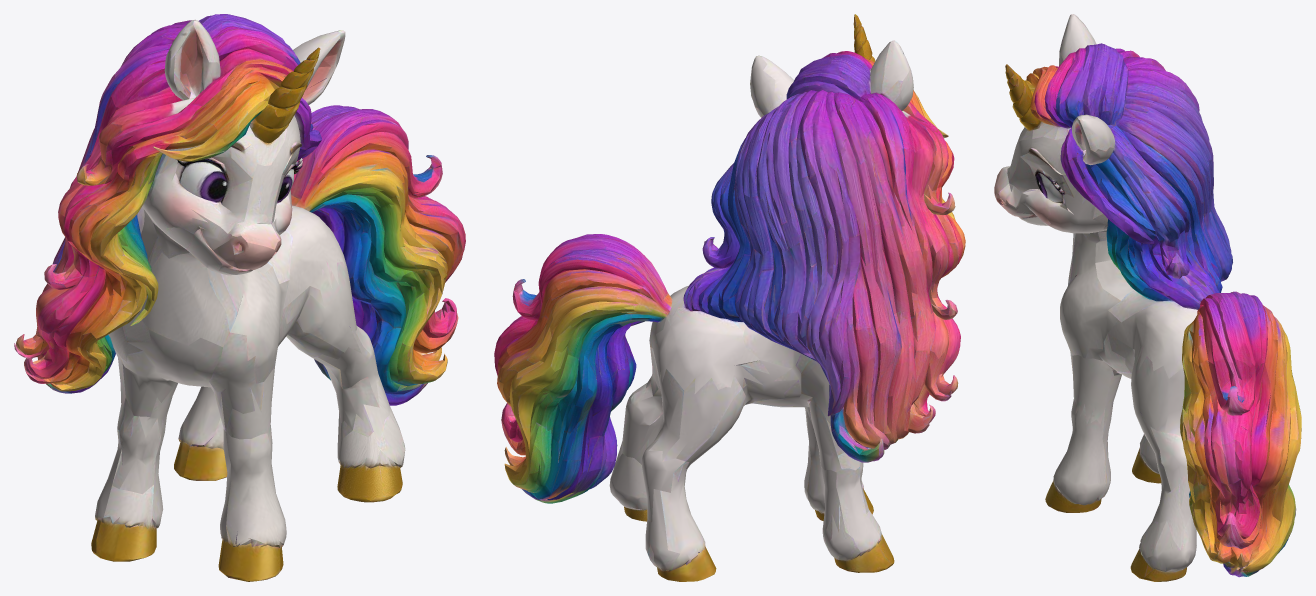
File: stardust.glb
The picture shows the model from 3 angles, left to right: view 1: azimuth 30°, elevation 25°; view 2: azimuth 150°, elevation 25°; view 3: azimuth 270°, elevation 25°; orthographic projection. The views are drawn at different scales.
Size of the model in its own units: 1.72 by 1.9 by 1.14.
Materials: 1 (1 with a texture image).
